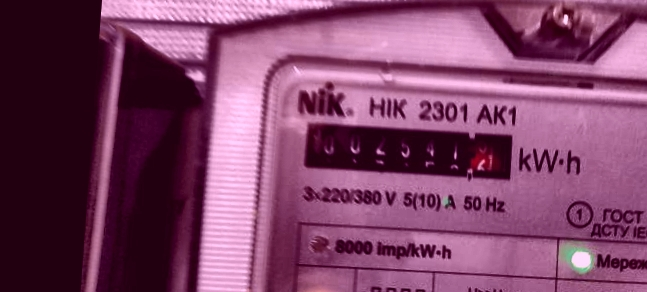0: (318, 129, 338, 156), (347, 128, 362, 156)
1: (446, 133, 461, 161)
2: (371, 130, 388, 156)
4: (423, 133, 437, 157)
5: (395, 131, 415, 160)
6: (473, 152, 489, 171)
screen: (291, 105, 528, 193)
